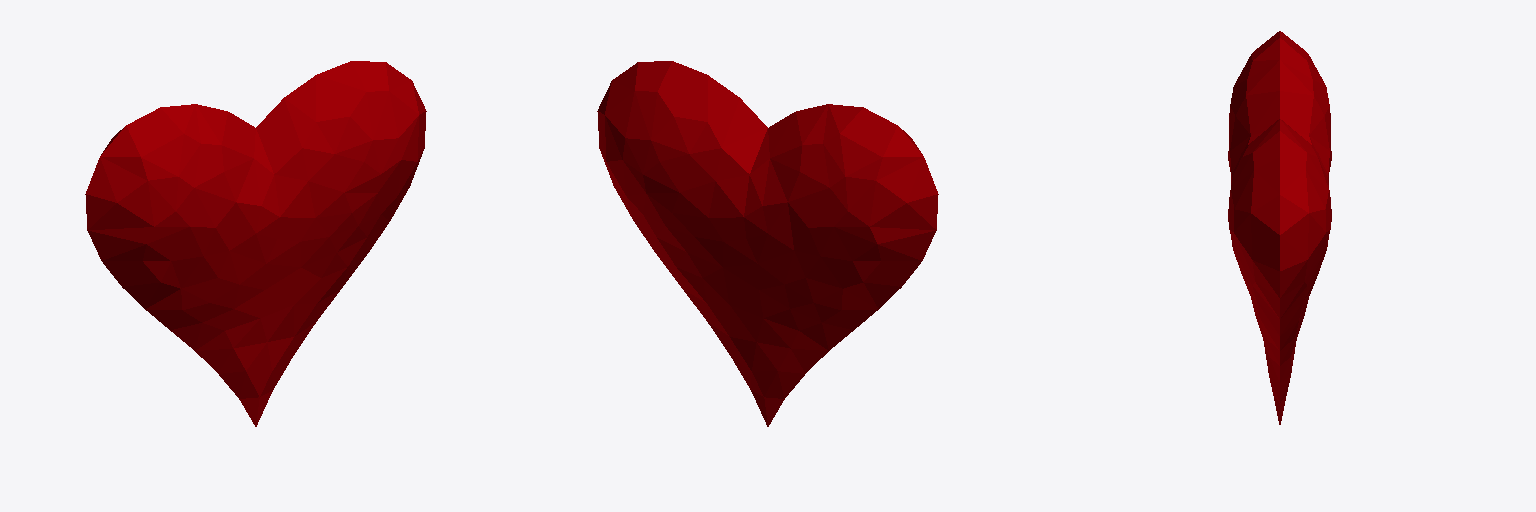
File: redlove.obj
The picture shows the model from 3 angles: view 1: azimuth 30°, elevation 25°; view 2: azimuth 150°, elevation 25°; view 3: azimuth 270°, elevation 25°; orthographic projection.
Parts seen in each view (by area): view 1: Line002; view 2: Line002; view 3: Line002.
Boxes of the visible parts, x1=… form: Line002: x1=85, y1=61, x2=426, y2=426; Line002: x1=597, y1=61, x2=938, y2=426; Line002: x1=1228, y1=31, x2=1331, y2=424.
Bounding box in the file's own units: 3.63 × 3.5 × 0.9532.